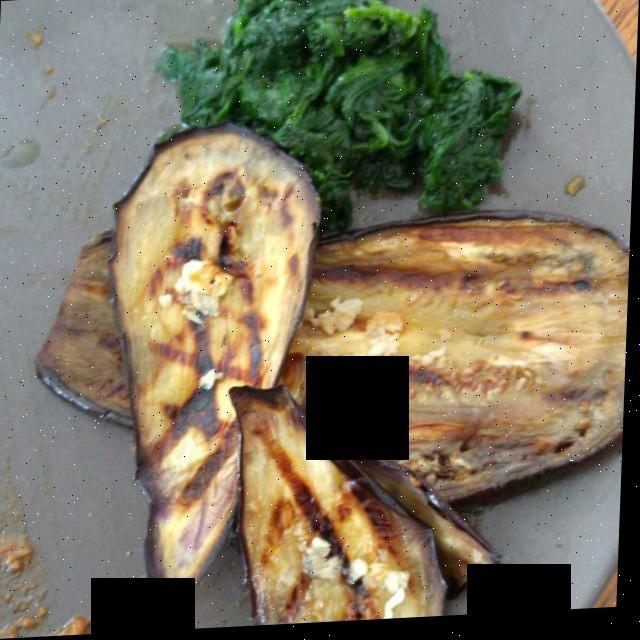eggplant: (52, 132, 618, 626)
spinach: (164, 0, 522, 256)
